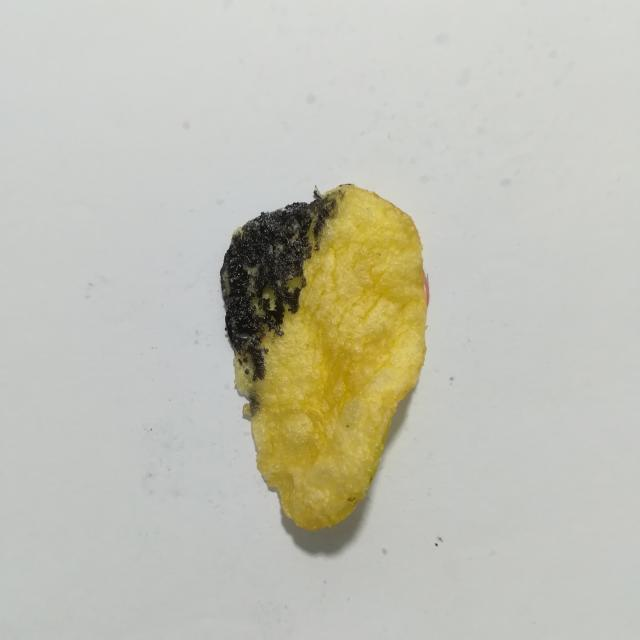chip: (220, 184, 429, 530)
damaged: (220, 189, 344, 380), (248, 391, 260, 416)
